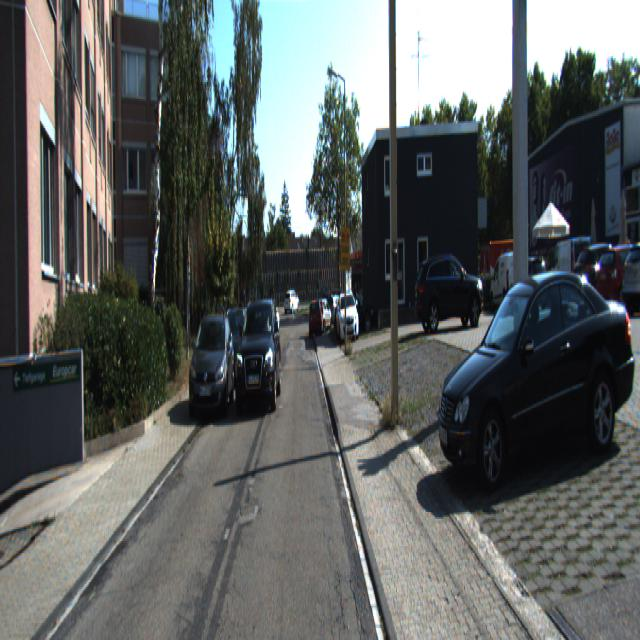Car: (426, 235, 640, 489), (414, 247, 485, 335), (232, 298, 282, 419), (187, 306, 236, 422), (594, 246, 640, 321), (548, 231, 592, 305), (214, 307, 252, 391), (509, 254, 549, 311), (490, 251, 526, 314), (620, 239, 640, 319), (336, 290, 359, 343), (308, 299, 324, 341), (283, 288, 300, 314)
